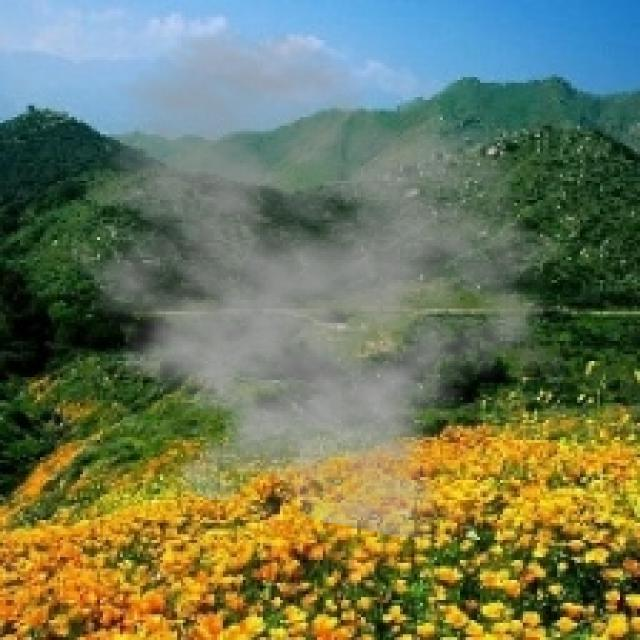Smoke: (34, 26, 572, 543)
